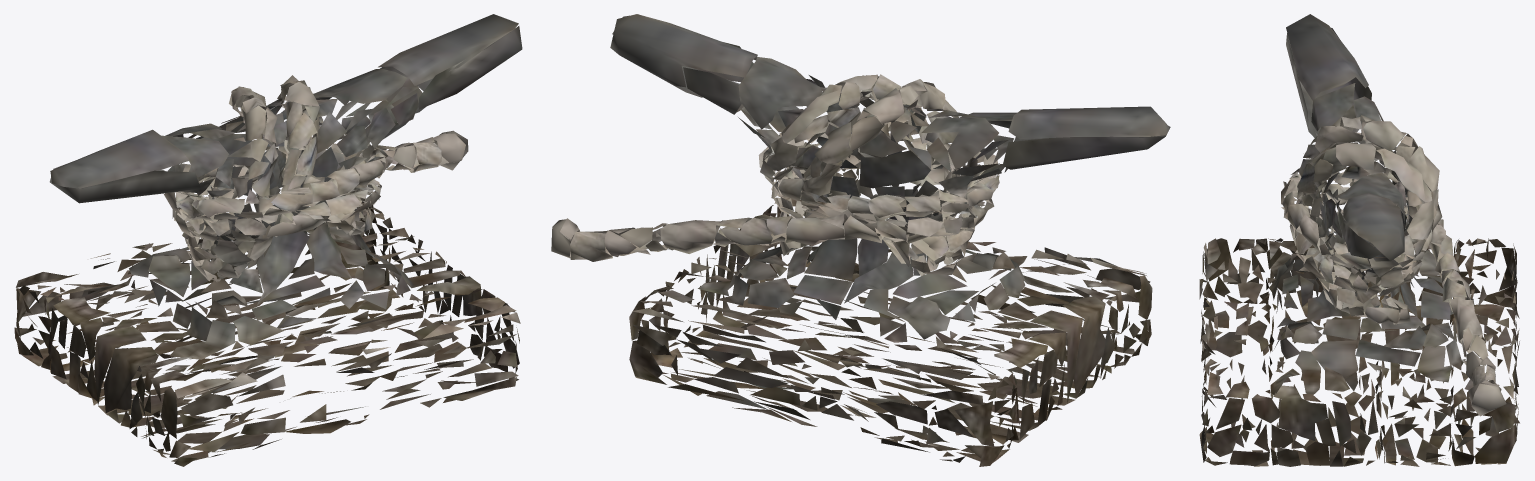
File: cleat.glb
3 views of the same model, side by side, from view 1: azimuth 30°, elevation 25°; view 2: azimuth 150°, elevation 25°; view 3: azimuth 270°, elevation 25° (orthographic). The views are drawn at different scales.
Visible parts, largest first — view 1: Mesh_0; view 2: Mesh_0; view 3: Mesh_0.
Part boxes in pixels (box(x1,y1,x2,y2)): Mesh_0: box(14, 14, 522, 466); Mesh_0: box(551, 14, 1170, 466); Mesh_0: box(1199, 14, 1519, 466).
Size of the model in its own units: 1.9 by 1.05 by 1.1.
1 material, 1 textured.
